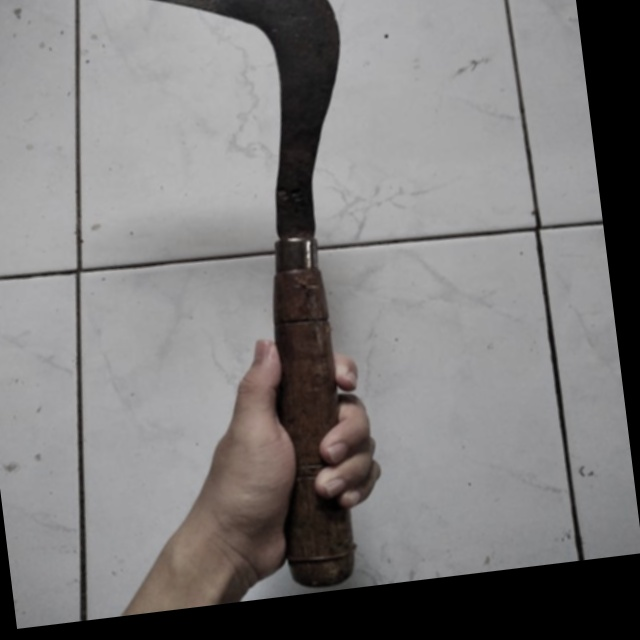Sharp-Object: (0, 0, 416, 610)
